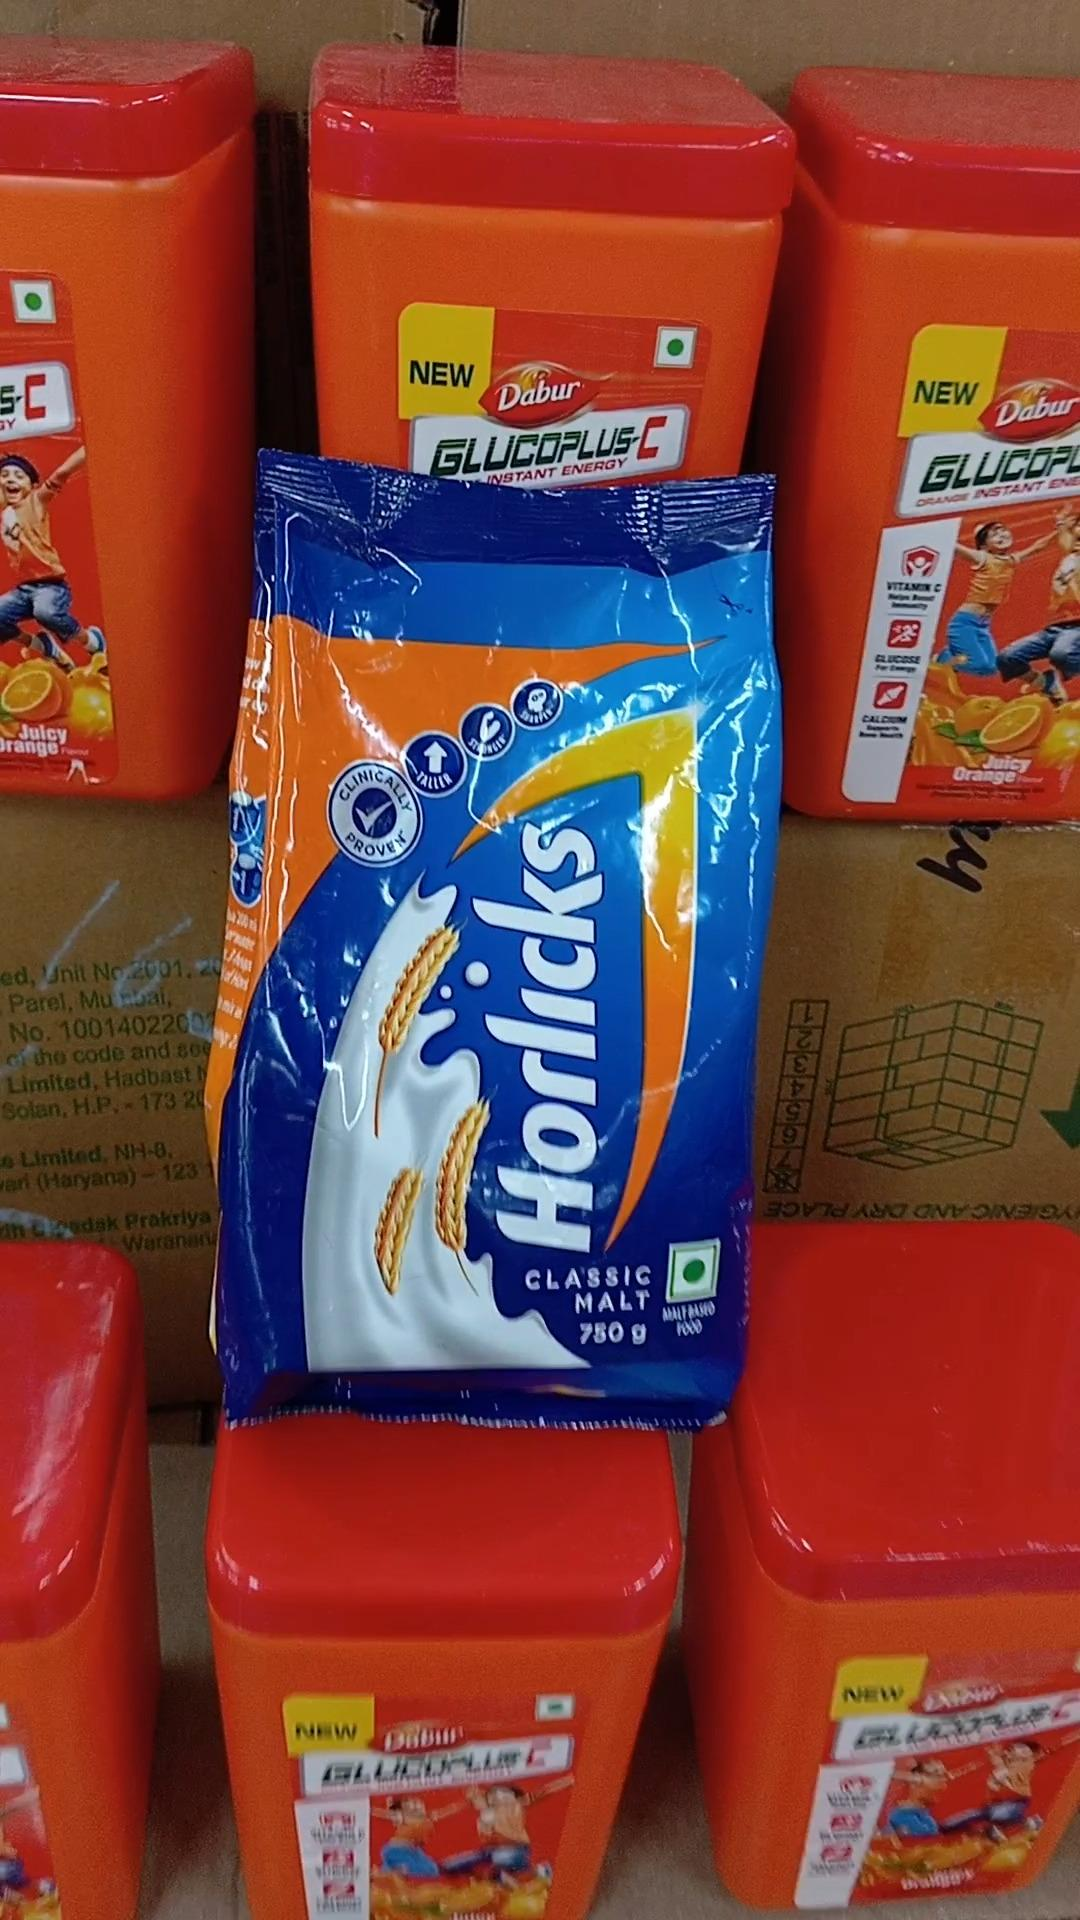HORLICK_CLASSIC_MALT_750_G_POUCH: (203, 429, 765, 1432)
